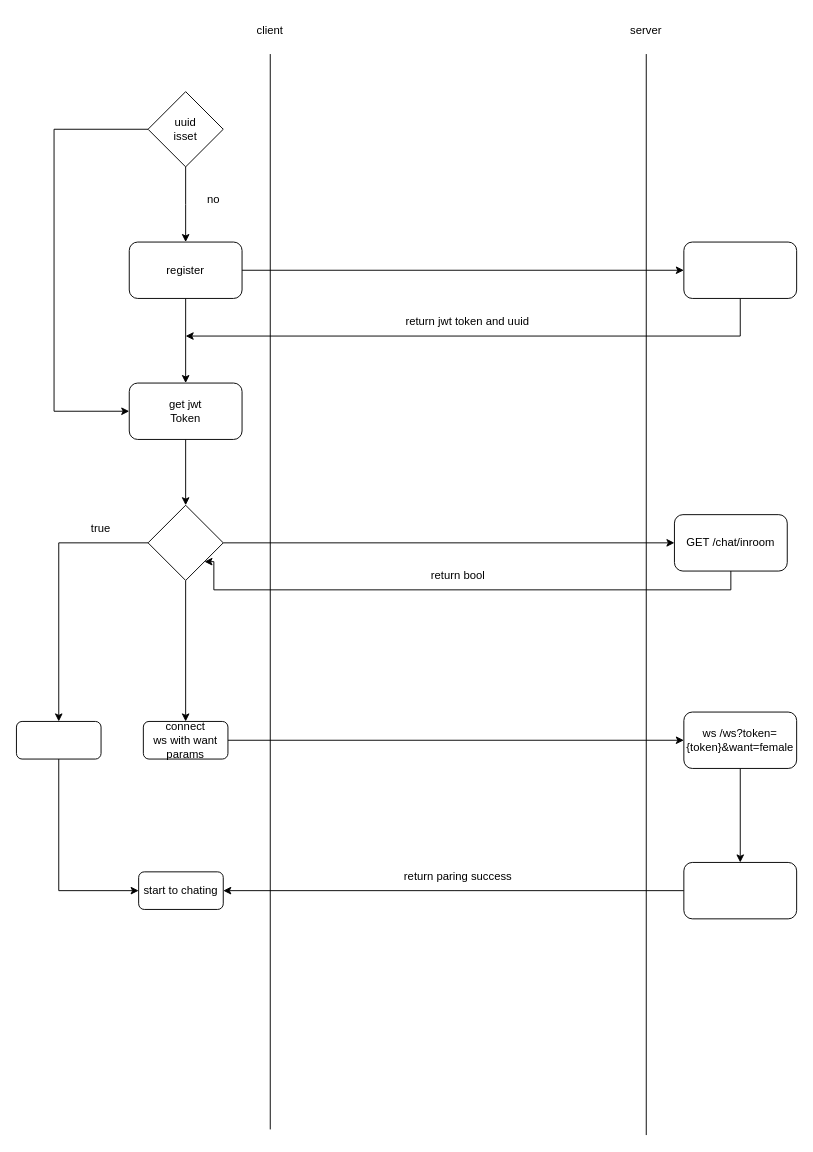
This 813x1152 diagram has some shape labels left out. The centre of each missing label's shape, as x and y in pixels:
connect ws: pixel 58 740
GET /register?gender= male or female: pixel 740 269
if in room: pixel 185 542
Insert Client to Paring Queue: pixel 740 890
